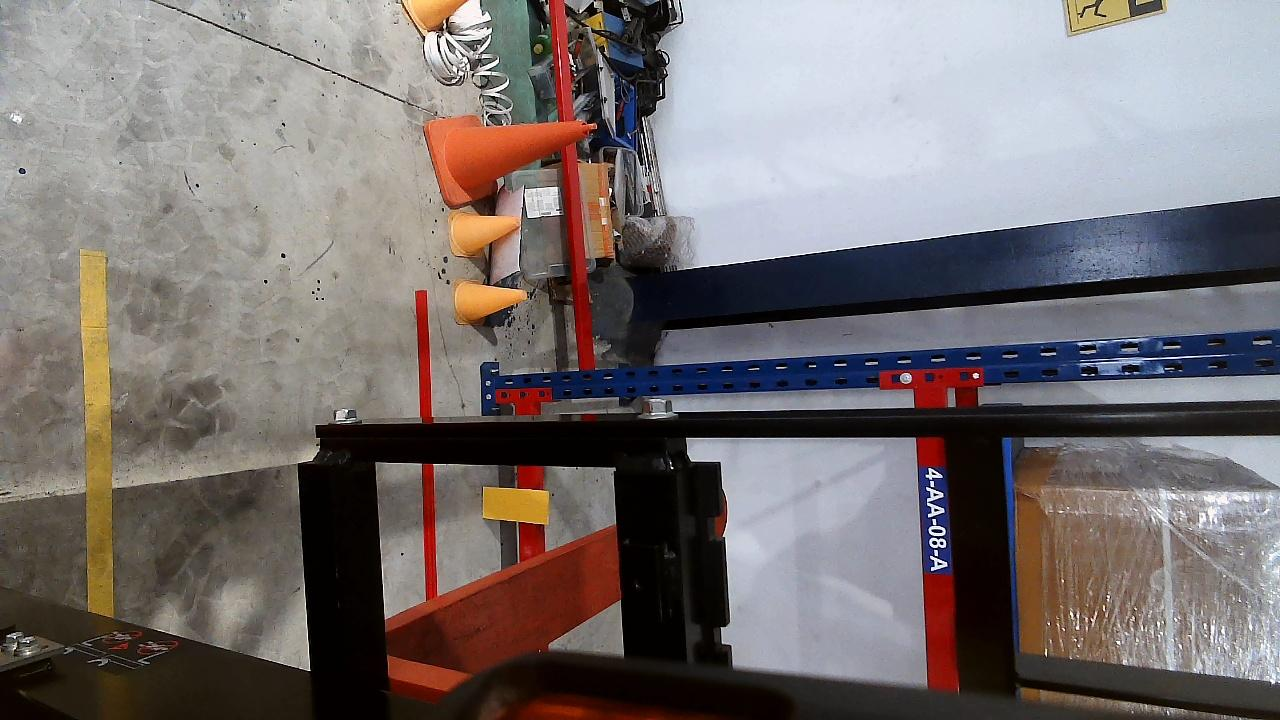h_rack: (913, 385, 959, 688)
orange_strip: (482, 486, 550, 523)
red_line: (412, 286, 441, 594)
yellow_line: (80, 250, 114, 617)
